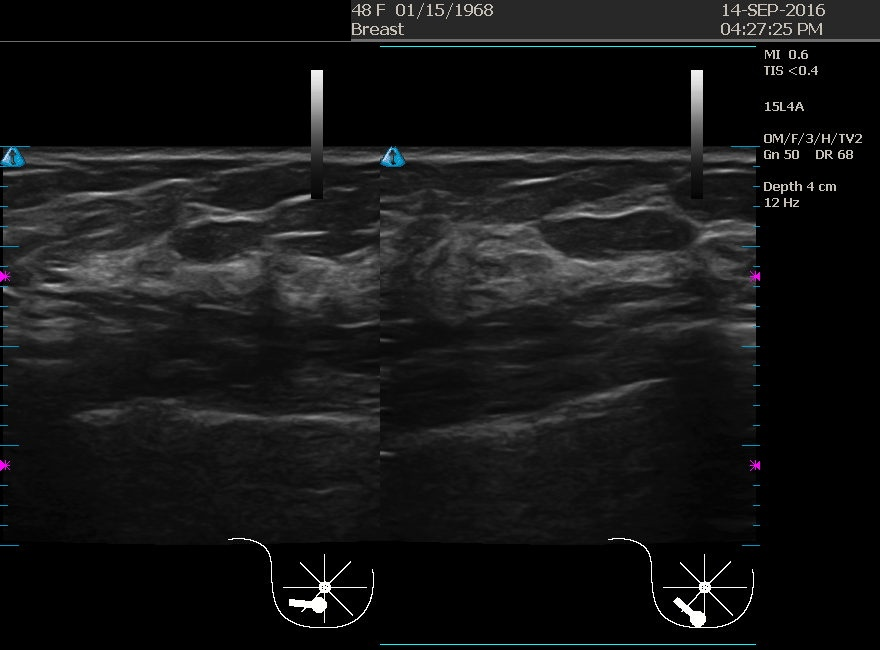BIRADS_2: (106, 151, 306, 351)
BIRADS_3: (512, 202, 712, 402)
